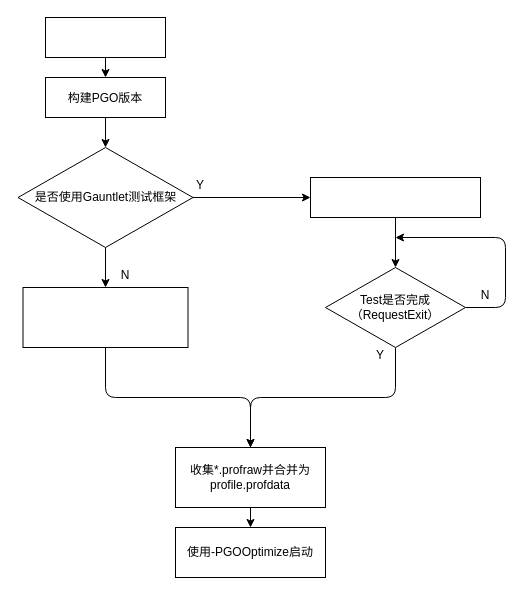
Image size: 531x595. Some labels were removed from this diagram. Here are the shapes that lost their labels. From the top down, the centre of each, then its label:
(105,37): -PGOProfile
(395,197): 使用UAT执行Gauntlet 从而运行PGOTest
(105,317): Runtime正常运行，直到RequestExit请求退出
